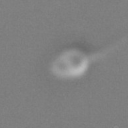normal: (88, 28, 128, 62)
